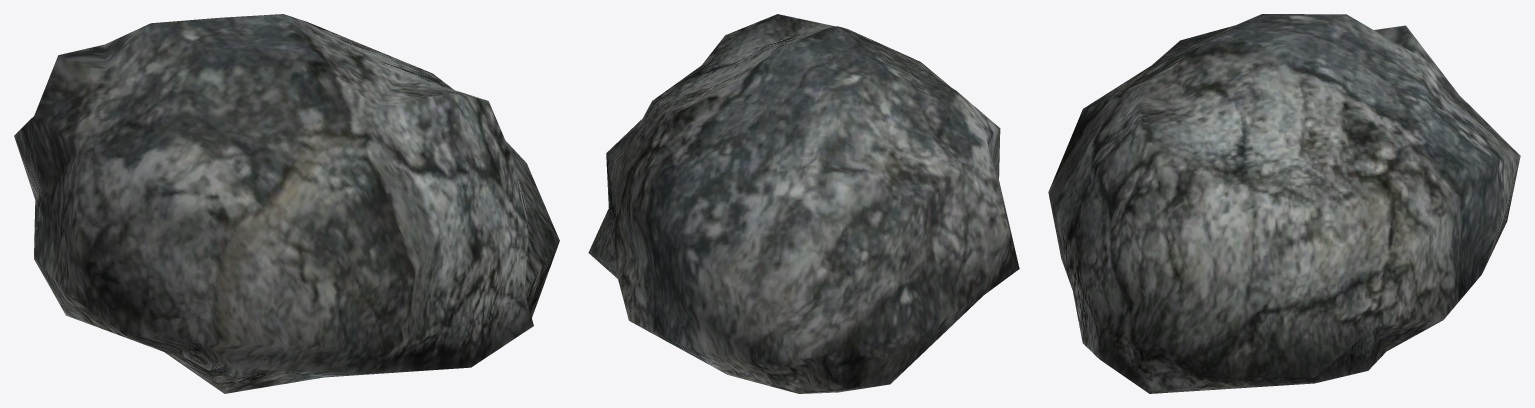
File: stone_med02.dae
3 views of the same model, side by side, from view 1: azimuth 30°, elevation 25°; view 2: azimuth 150°, elevation 25°; view 3: azimuth 270°, elevation 25° (orthographic). The views are drawn at different scales.
Visible parts, largest first — view 1: stone_med02_mesh; view 2: stone_med02_mesh; view 3: stone_med02_mesh.
Part boxes in pixels (bbox=[...]): stone_med02_mesh: bbox=[14, 14, 559, 393]; stone_med02_mesh: bbox=[588, 14, 1019, 393]; stone_med02_mesh: bbox=[1048, 14, 1520, 393].
Bounding box in the file's own units: 1.06 × 0.7072 × 1.06.
